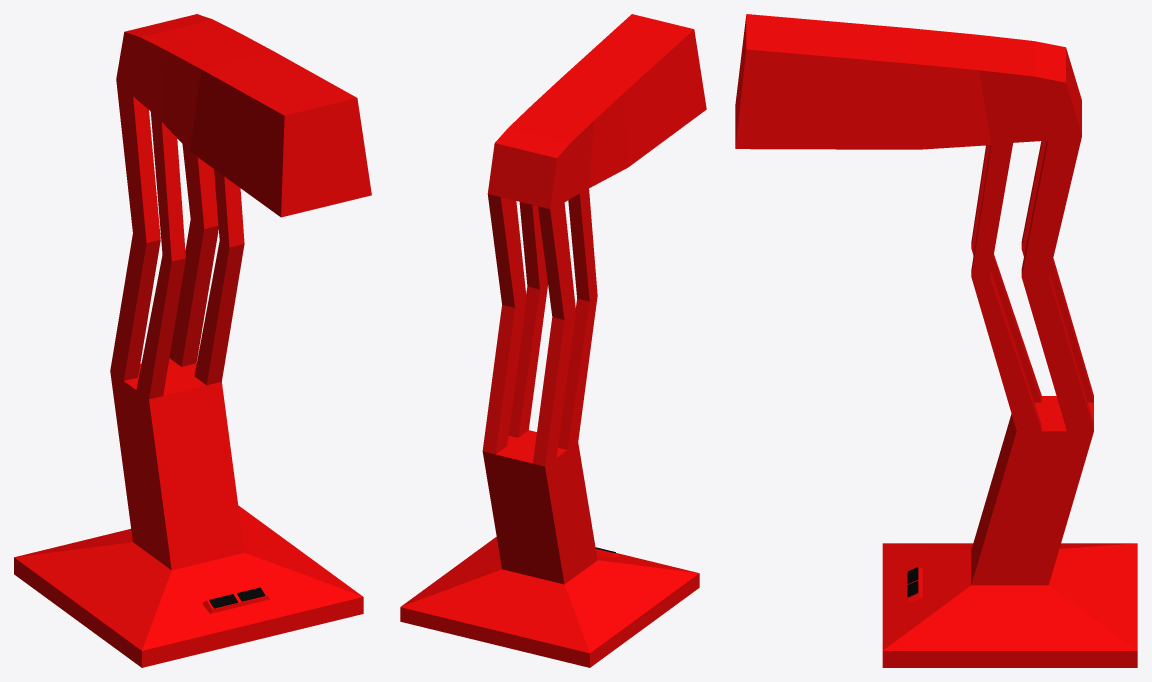
Rendered from FutureLamp1.fbx.
3 renders of one model, left to right at view 1: azimuth 30°, elevation 25°; view 2: azimuth 150°, elevation 25°; view 3: azimuth 270°, elevation 25°, orthographic. The views are drawn at different scales.
Visible parts, largest first — view 1: Cube; view 2: Cube; view 3: Cube.
Part boxes in pixels (box(x1,y1,x2,y2)): Cube: box(14, 14, 371, 667); Cube: box(400, 14, 706, 667); Cube: box(735, 14, 1137, 667).
Bounding box in the file's own units: 28.64 × 72.14 × 45.15.
